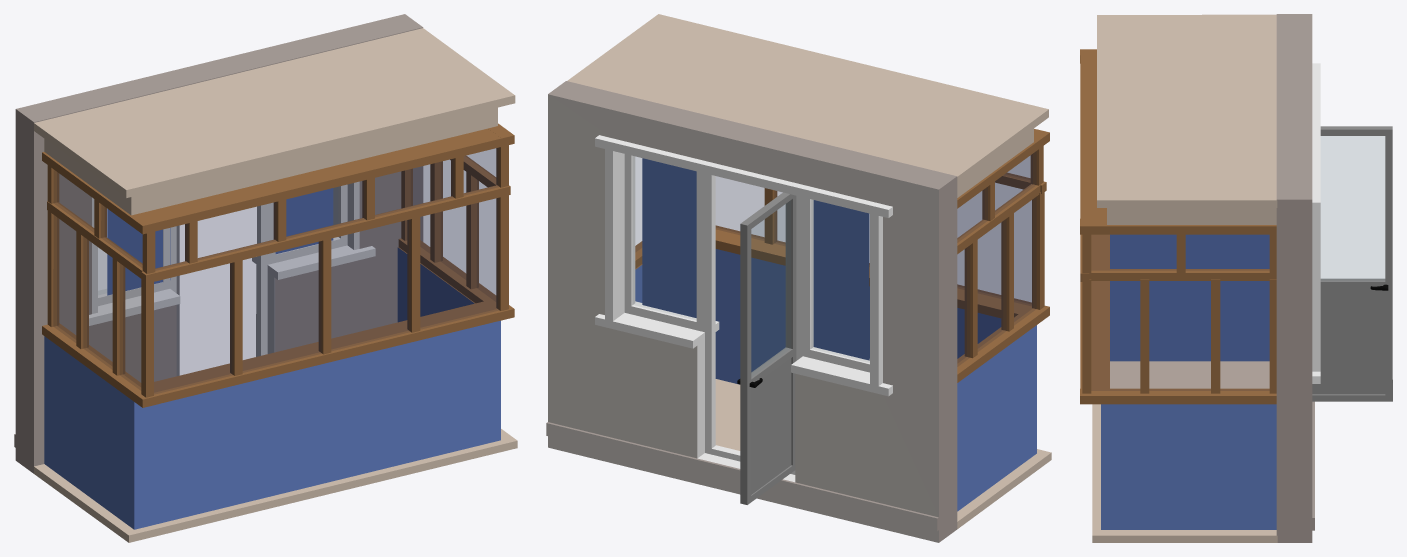
The model's file is Hub_3_balcony_type2.FBX.
3 views of the same model, side by side, from view 1: azimuth 30°, elevation 25°; view 2: azimuth 150°, elevation 25°; view 3: azimuth 270°, elevation 25° (orthographic). The views are drawn at different scales.
Parts seen in each view (by area): view 1: Hub_3_balcony_type2_002, window_002; view 2: Hub_3_balcony_type2_002, Balcony_door_024, window_002; view 3: Hub_3_balcony_type2_002, Balcony_door_024.
Boxes of the visible parts, x1=… form: Hub_3_balcony_type2_002: x1=14, y1=14, x2=517, y2=542; window_002: x1=57, y1=148, x2=497, y2=392; Hub_3_balcony_type2_002: x1=546, y1=14, x2=1051, y2=542; Balcony_door_024: x1=737, y1=192, x2=796, y2=504; window_002: x1=635, y1=154, x2=1033, y2=363; Hub_3_balcony_type2_002: x1=1080, y1=14, x2=1320, y2=542; Balcony_door_024: x1=1312, y1=126, x2=1392, y2=401.
Size of the model in its own units: 814 by 703 by 580.
Materials: 5 (1 with a texture image).
